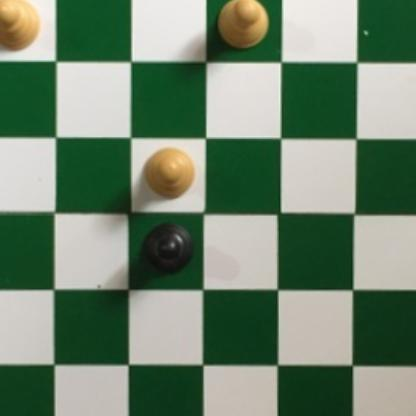black-pawn: (137, 220, 196, 277)
white-pawn: (140, 145, 194, 200), (216, 0, 269, 53), (0, 0, 39, 50)
